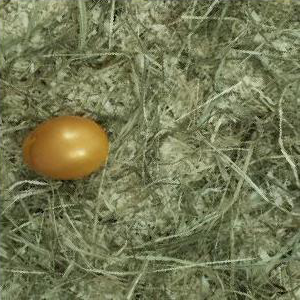egg: (22, 115, 109, 182)
